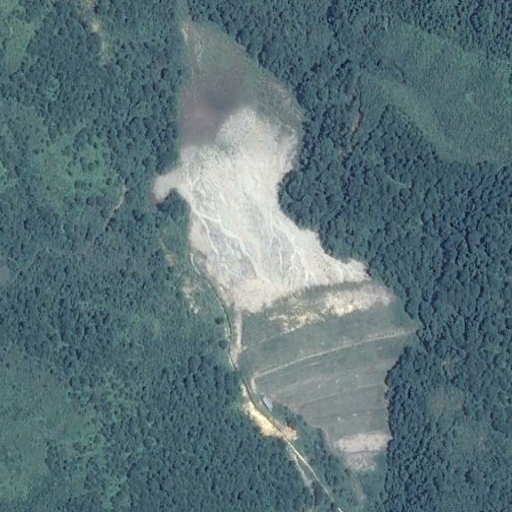tp: (147, 16, 422, 455)
